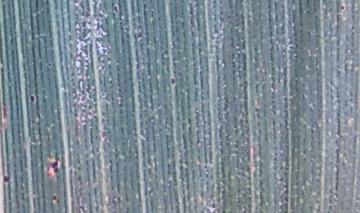tarspot: (45, 156, 63, 179), (48, 192, 61, 207), (26, 91, 38, 106), (1, 172, 12, 187), (111, 2, 121, 17), (168, 74, 178, 89), (339, 4, 347, 14)
